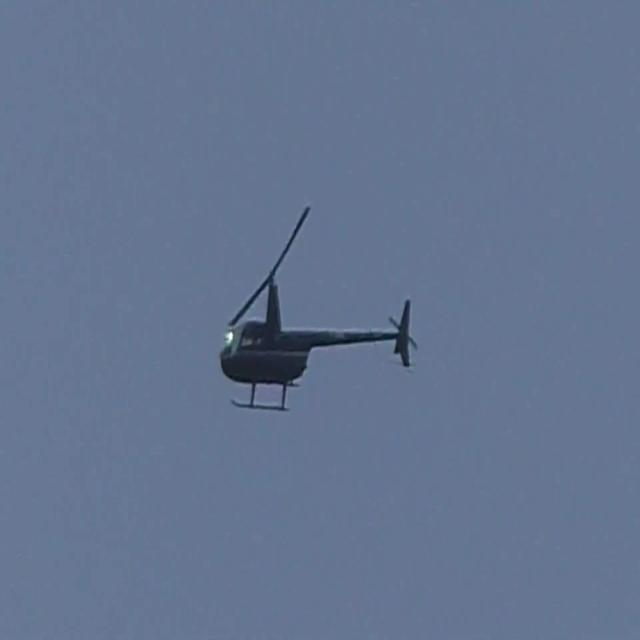CIV_HELO: (218, 270, 418, 413)
